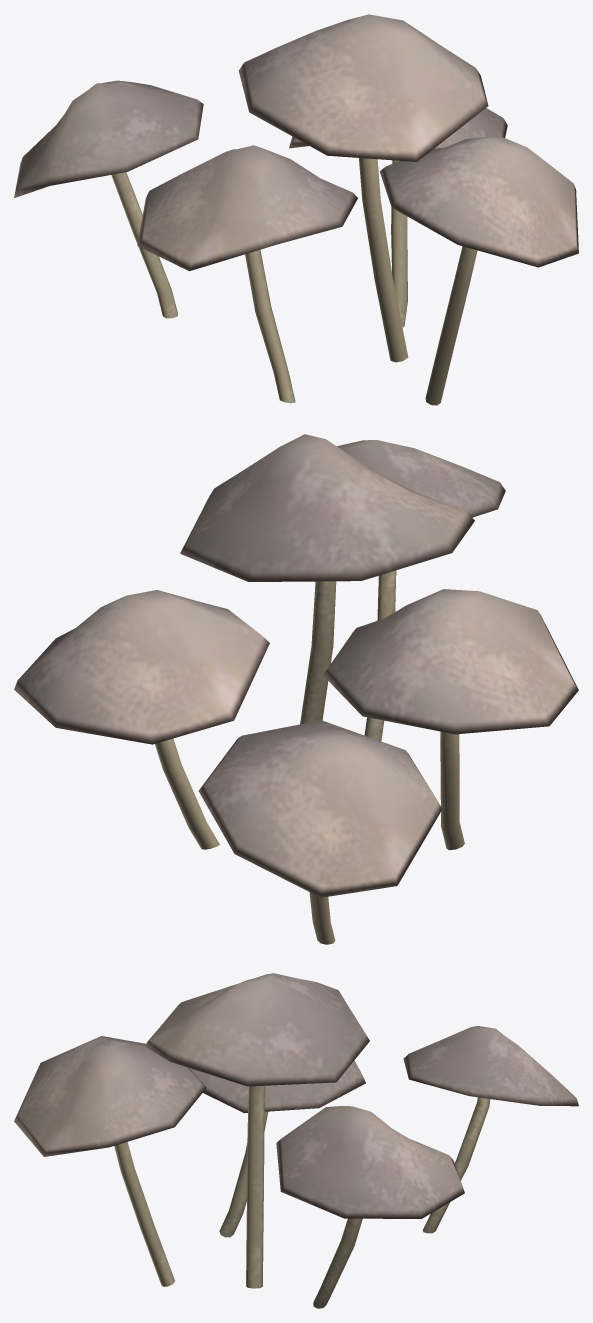
Rendered from Mushroom_Common.gltf.
3 renders of one model, top to bottom at view 1: azimuth 30°, elevation 25°; view 2: azimuth 150°, elevation 25°; view 3: azimuth 270°, elevation 25°, orthographic. The views are drawn at different scales.
Parts seen in each view (by area): view 1: Mushroom_Common; view 2: Mushroom_Common; view 3: Mushroom_Common.
Part boxes in pixels (box(x1,y1,x2,y2)): Mushroom_Common: box(14, 14, 578, 405); Mushroom_Common: box(14, 434, 578, 944); Mushroom_Common: box(14, 973, 578, 1308).
Size of the model in its own units: 0.5637 by 0.4635 by 0.7791.
1 material, 1 textured.
